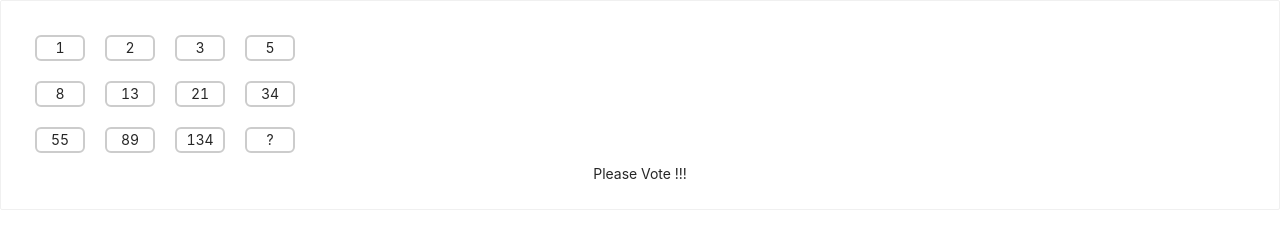
Test case: ActiveStory › selected story point as 13, and check vote info text
Click the text with test id "story-point-13".
click(130, 94)  # box [105,81,155,107]
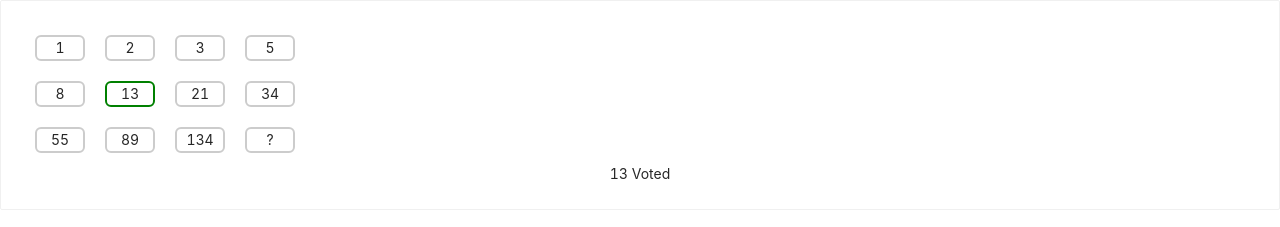
Expected: the text with test id "vote-info" reads "13 Voted", [610,165,670,182]
